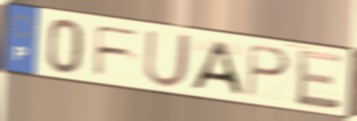0: (45, 17, 88, 76)
A: (188, 39, 245, 98)
E: (294, 47, 345, 112)
F: (91, 23, 143, 79)
P: (244, 42, 293, 99)
U: (142, 28, 195, 90)
